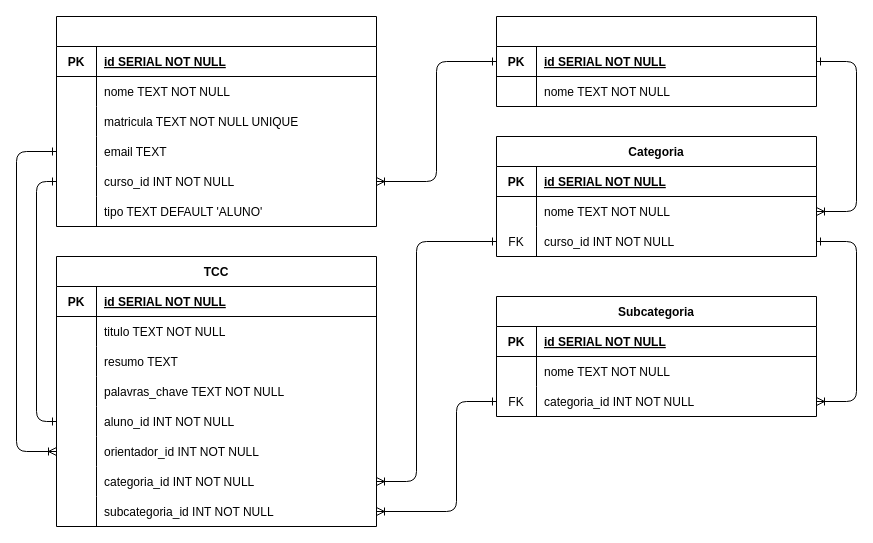
Image size: 873x543. Some labels were removed from this diagram. The box of each missing label's shape, as (x1, y1, x2, y2) in pixels:
Curso: (496, 16, 816, 106)
Usuario: (56, 16, 376, 226)
